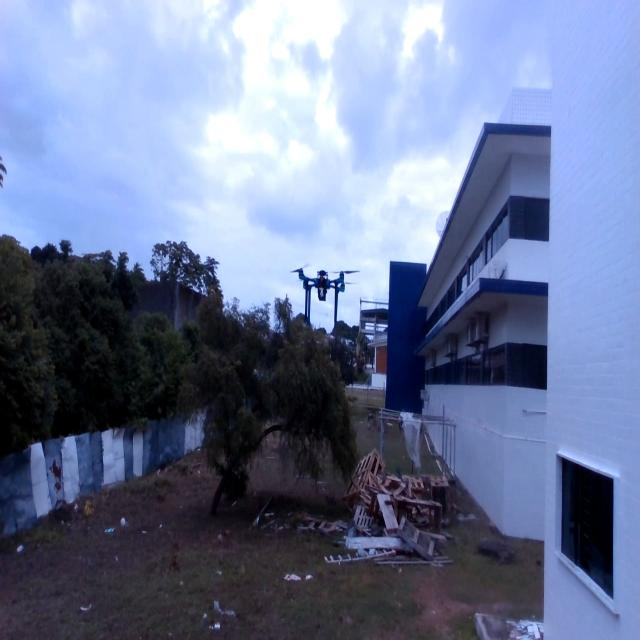-uav-: (278, 234, 367, 342)
